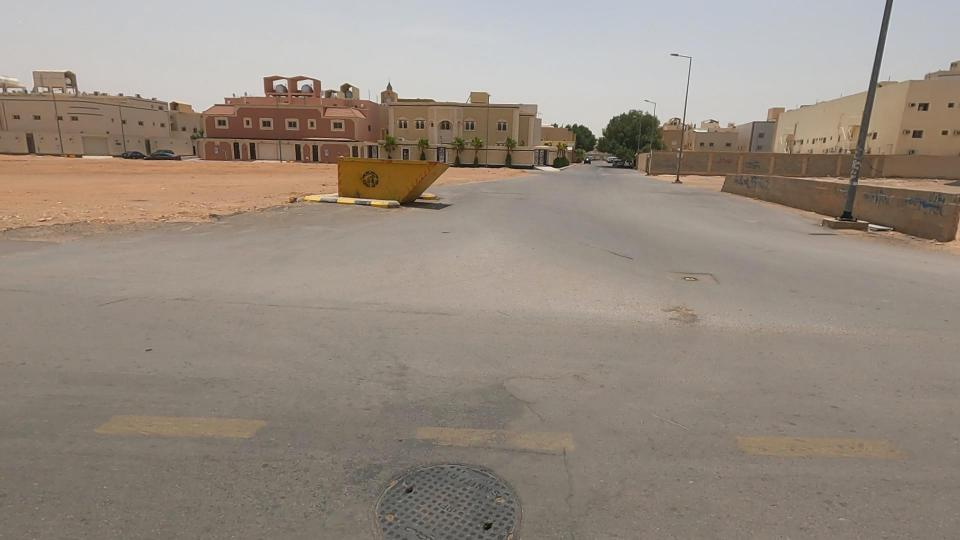POTHOLES: (616, 260, 737, 361)
